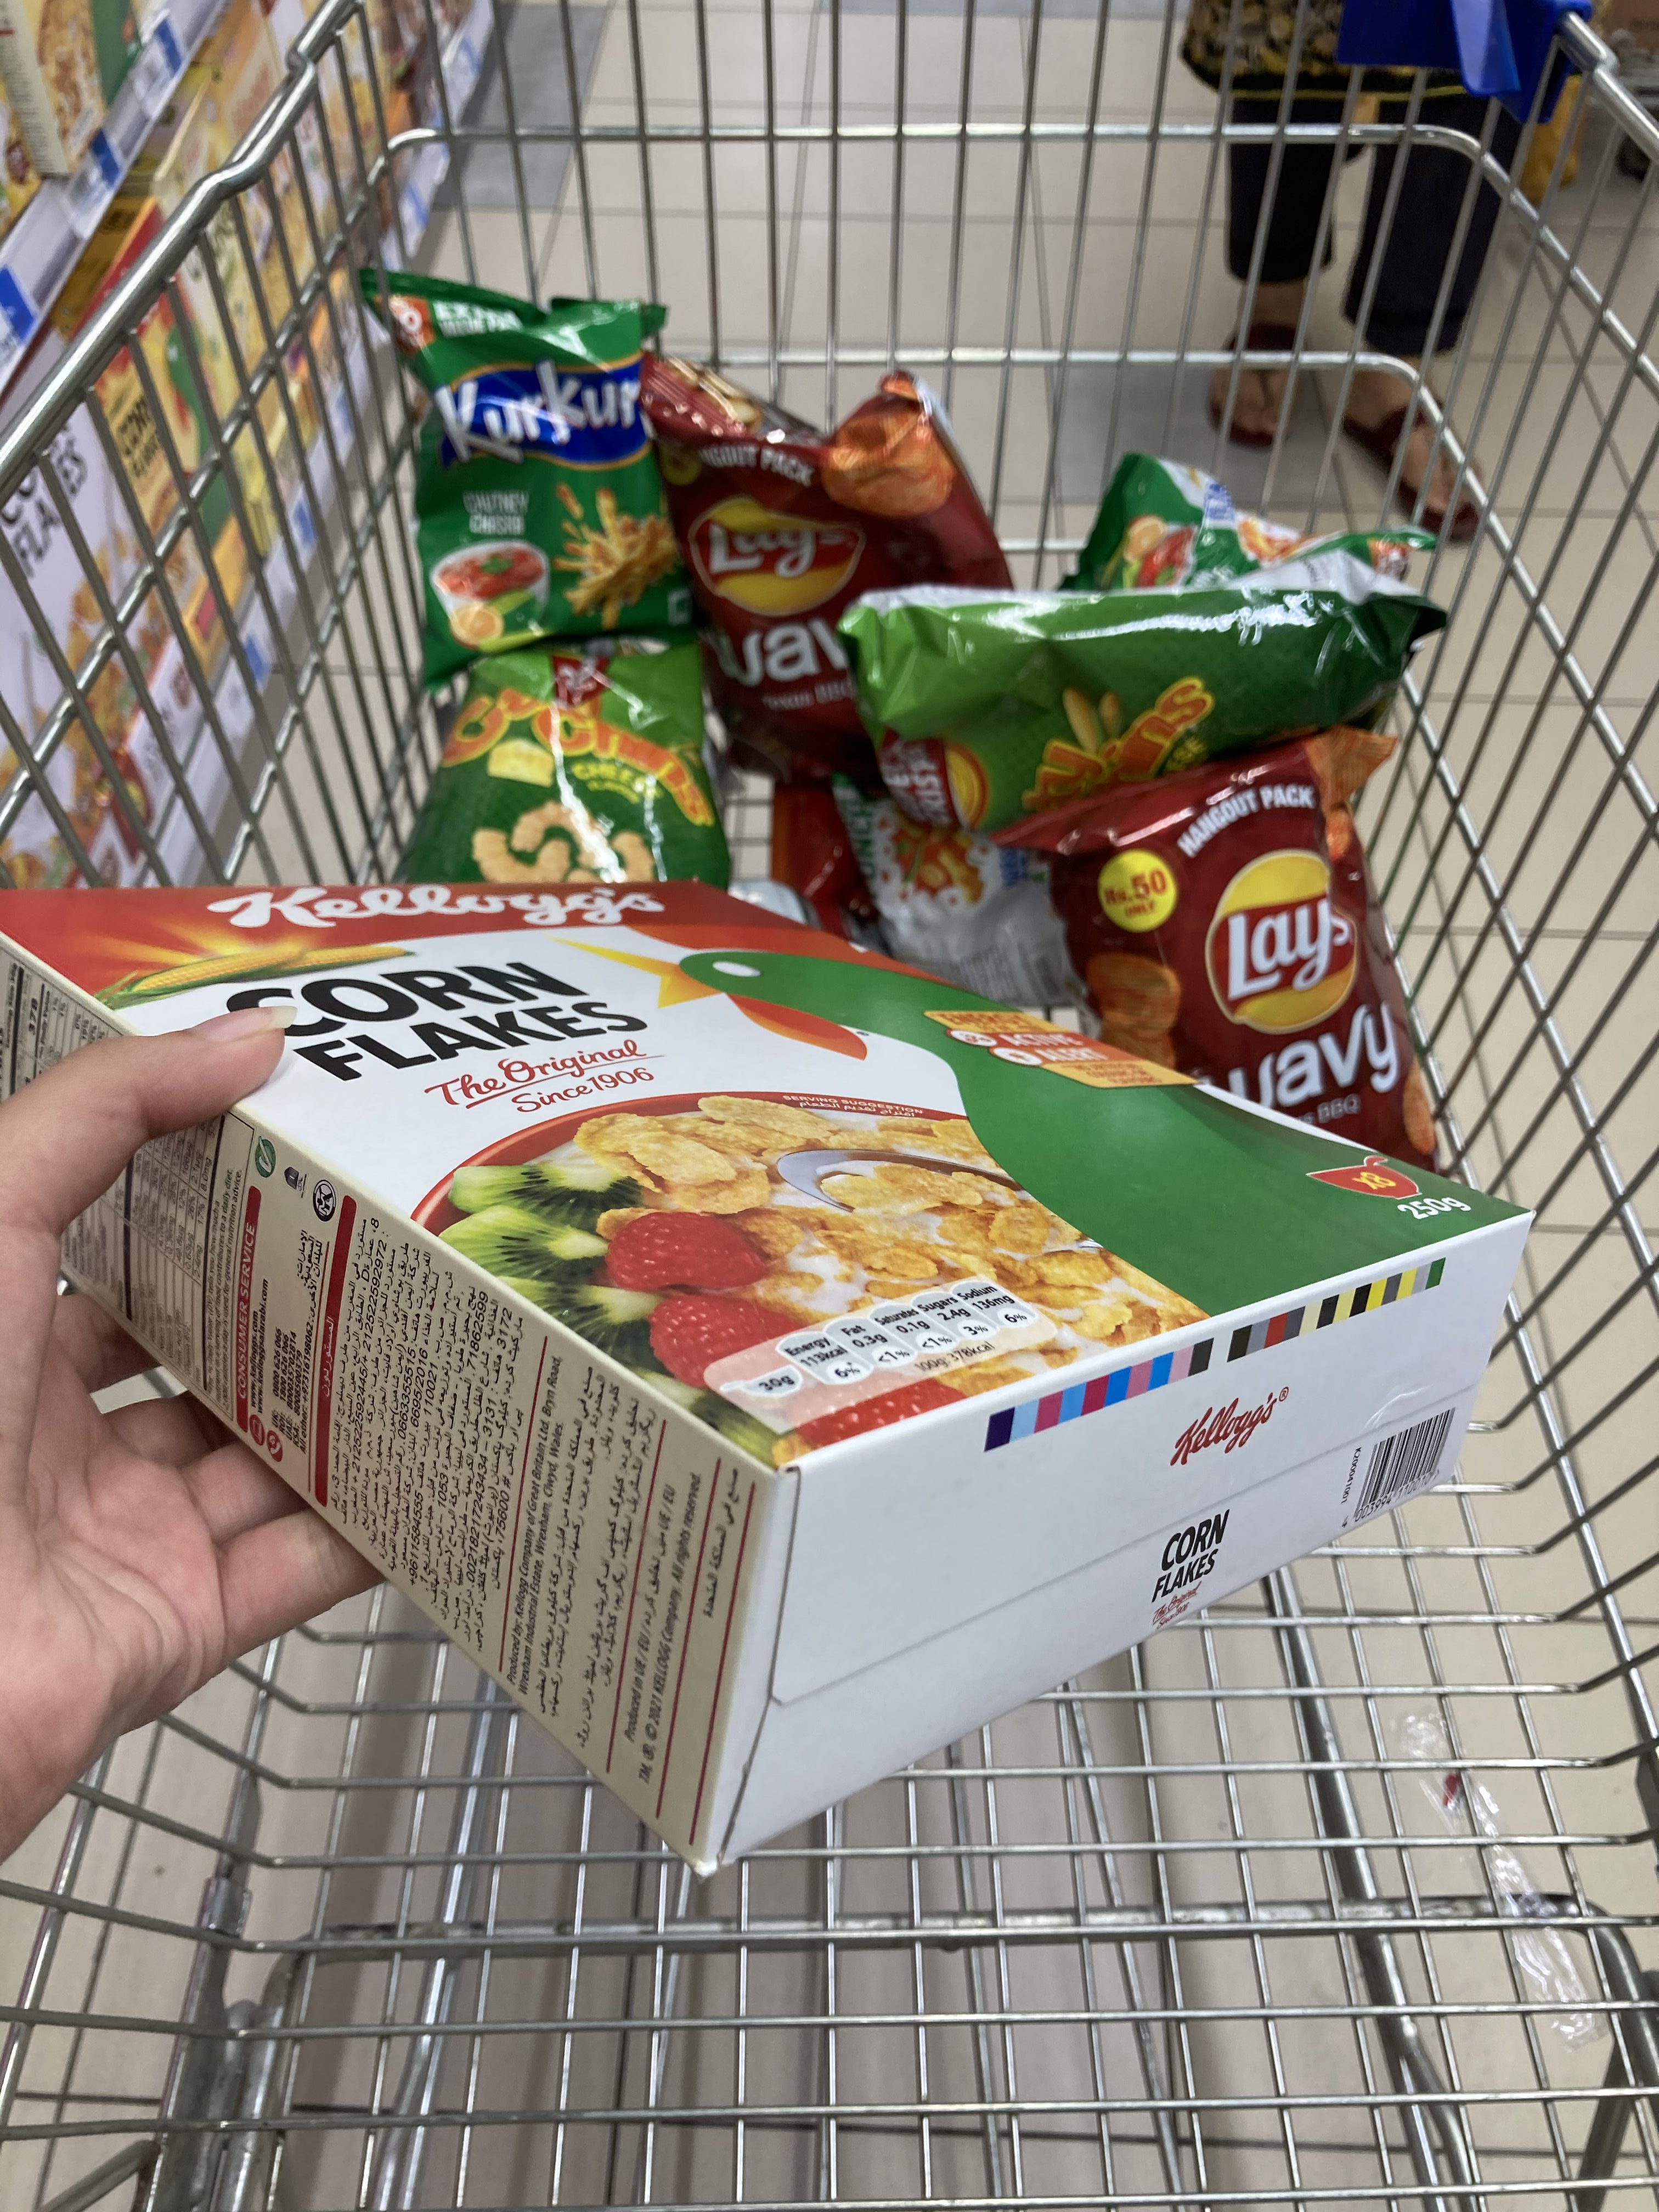Kellogg's Corn Flakes: (2, 880, 1541, 1871)
